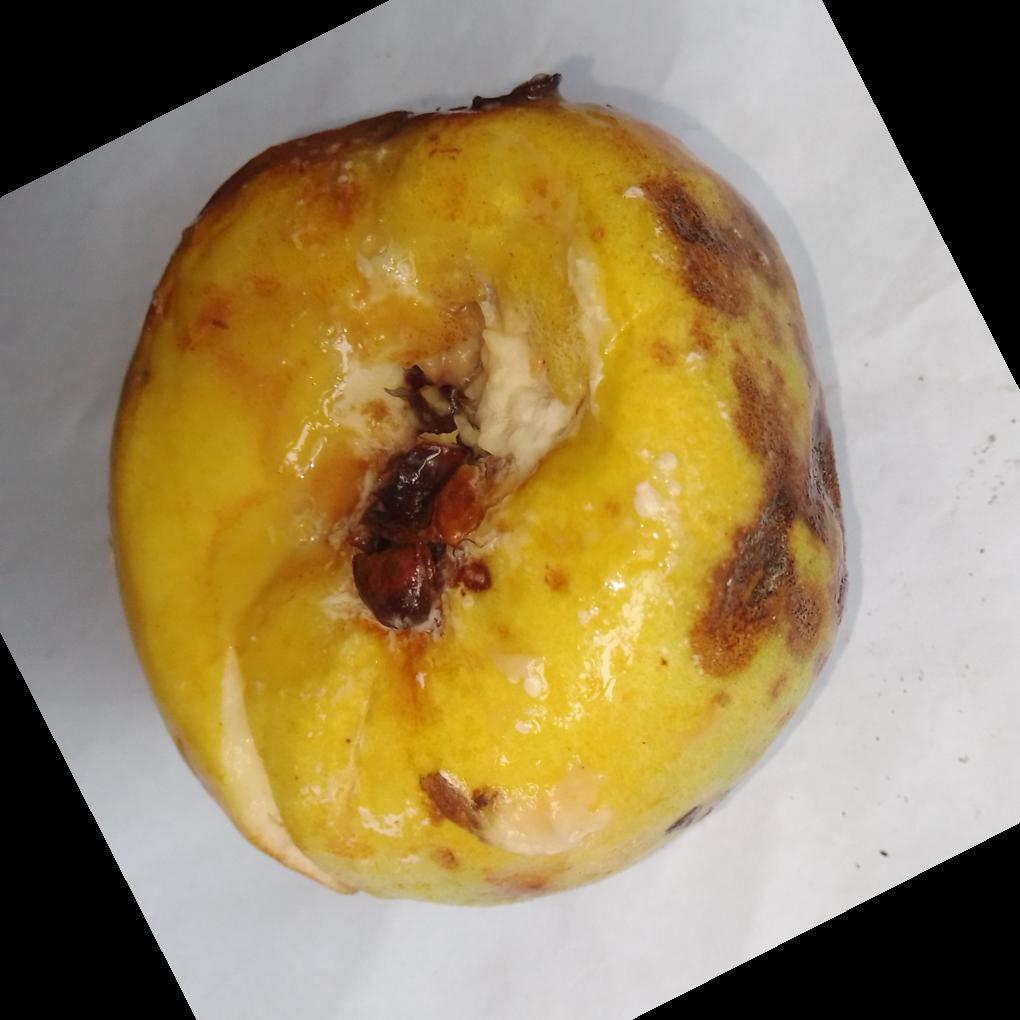FreshOrange: (107, 73, 856, 913)
